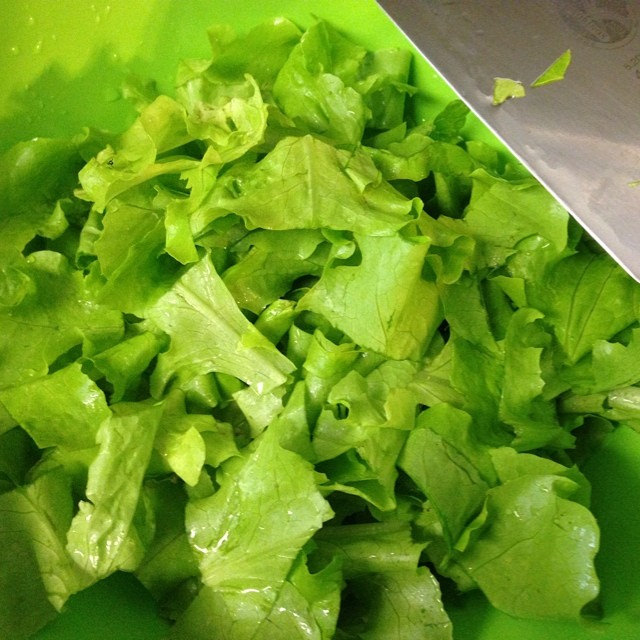chopped lettuce: (19, 58, 599, 622)
